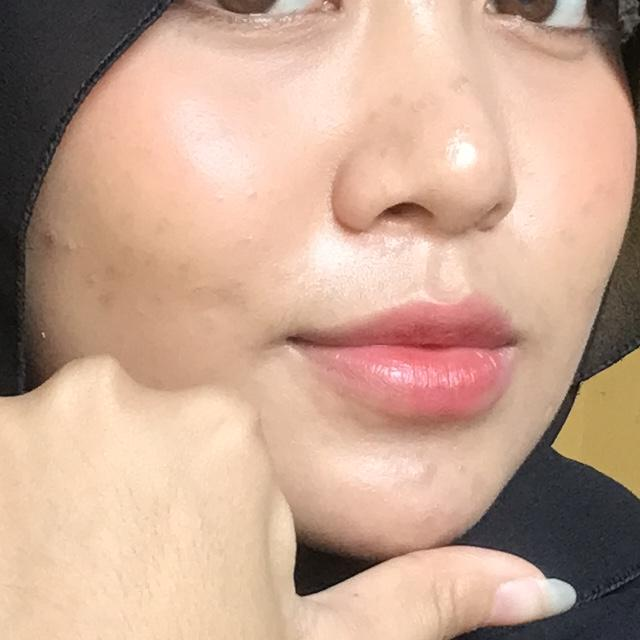telpon: (0, 96, 620, 640)
